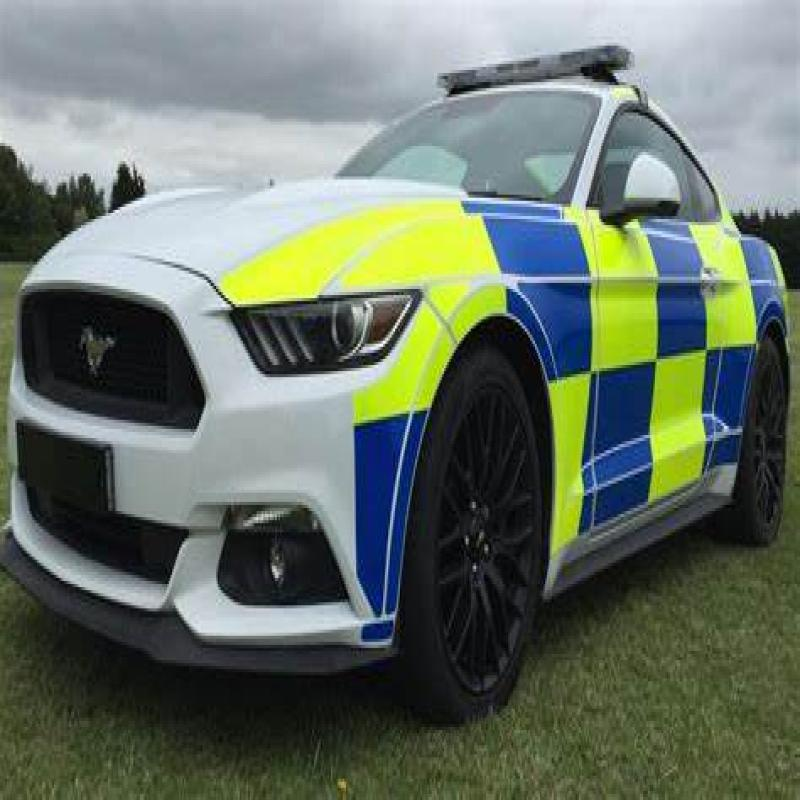AmbulanceSiren: (417, 6, 633, 93)
